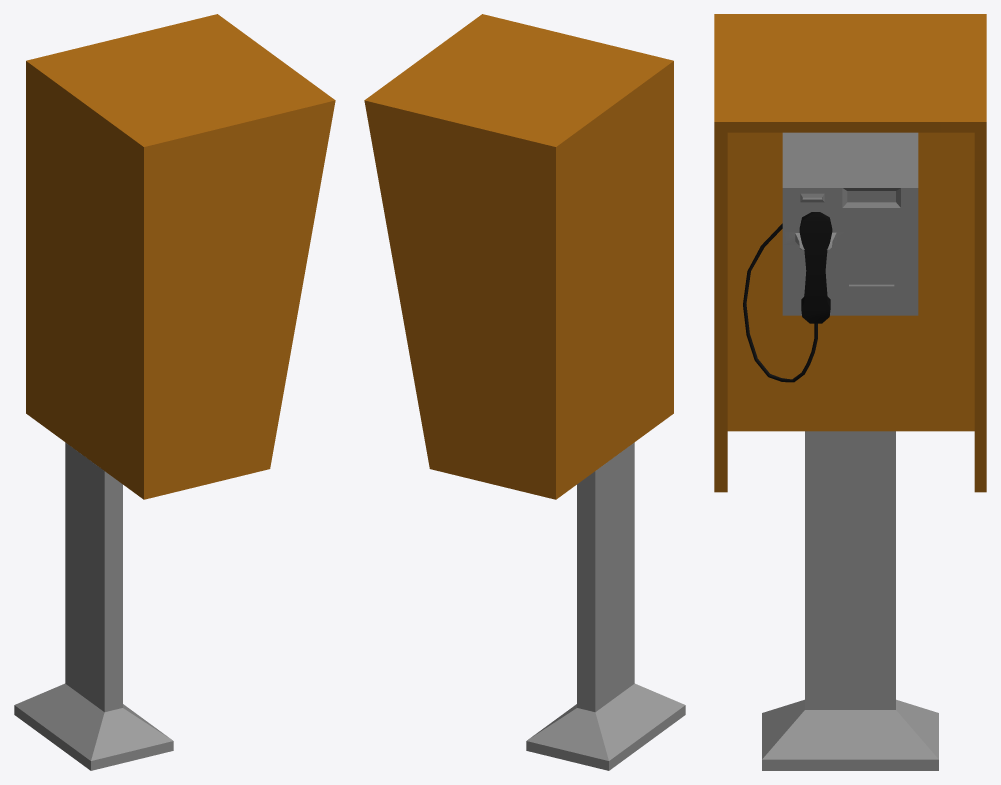
Rendered from street phone.FBX.
3 renders of one model, left to right at view 1: azimuth 30°, elevation 25°; view 2: azimuth 150°, elevation 25°; view 3: azimuth 270°, elevation 25°, orthographic. The views are drawn at different scales.
Parts seen in each view (by area): view 1: Box001; view 2: Box001; view 3: Box001.
Boxes of the visible parts, box(x1,y1,x2,y2) form: Box001: box(14, 14, 335, 770); Box001: box(364, 14, 685, 770); Box001: box(714, 14, 986, 770).
Bounding box in the file's own units: 44.89 × 121 × 40.98.
